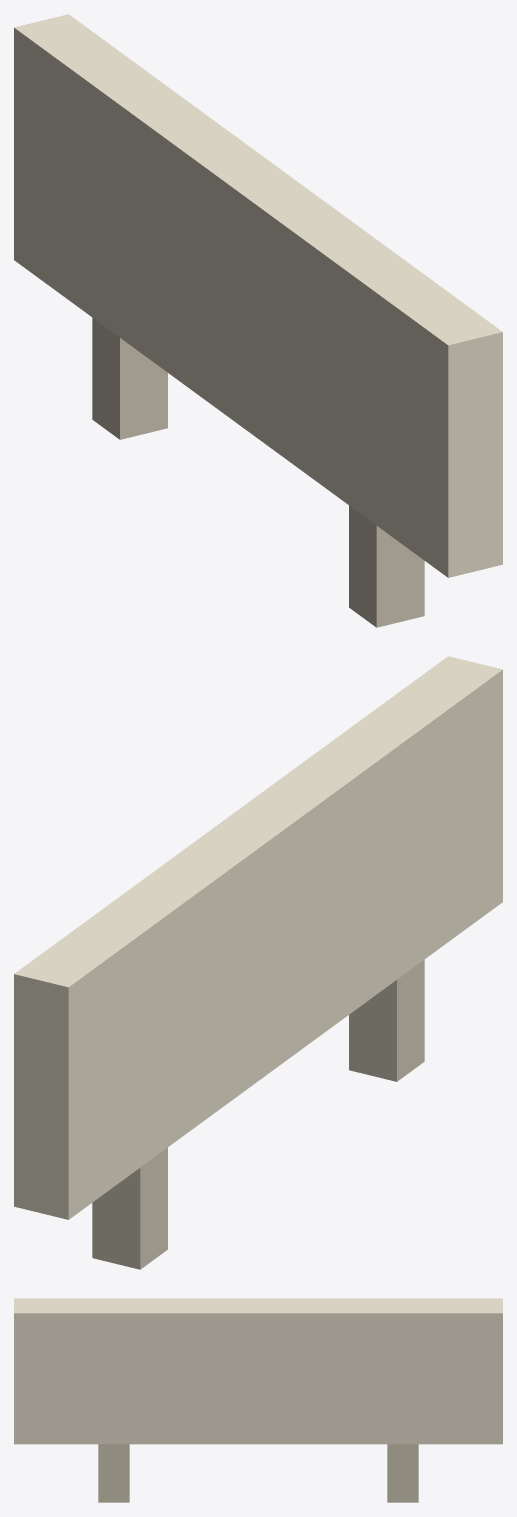
The model's file is rail-90.glb.
3 renders of one model, top to bottom at view 1: azimuth 30°, elevation 25°; view 2: azimuth 150°, elevation 25°; view 3: azimuth 270°, elevation 25°, orthographic. The views are drawn at different scales.
Size of the model in its own units: 0.08 by 0.4725 by 1.1.
